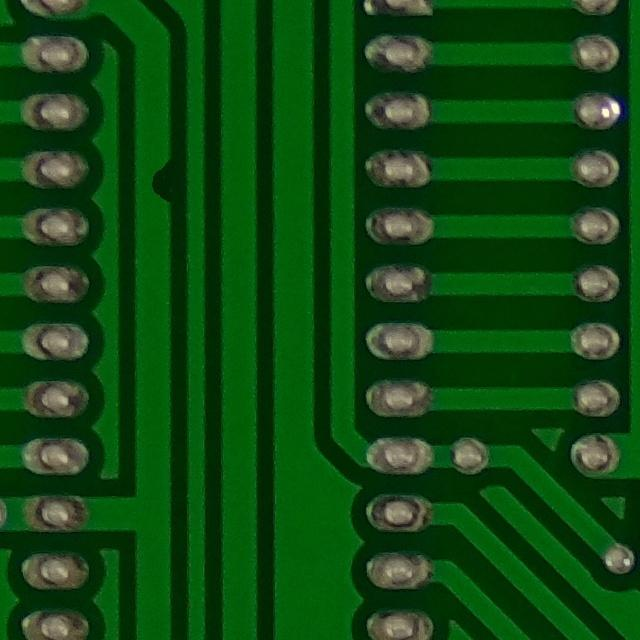mouse_bite: (137, 145, 183, 222)
